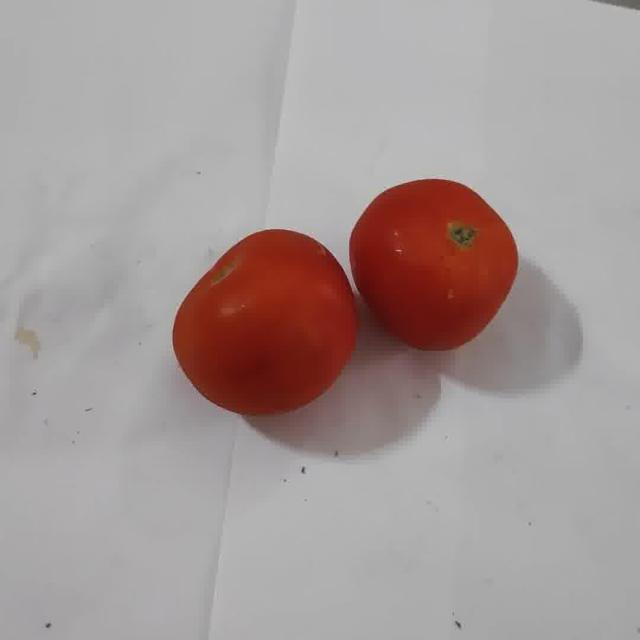Tomato: (172, 229, 357, 417), (350, 180, 517, 350)
